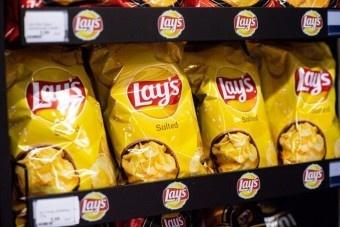snack: (90, 39, 217, 188), (4, 49, 119, 198), (182, 45, 279, 174), (249, 40, 340, 165)
